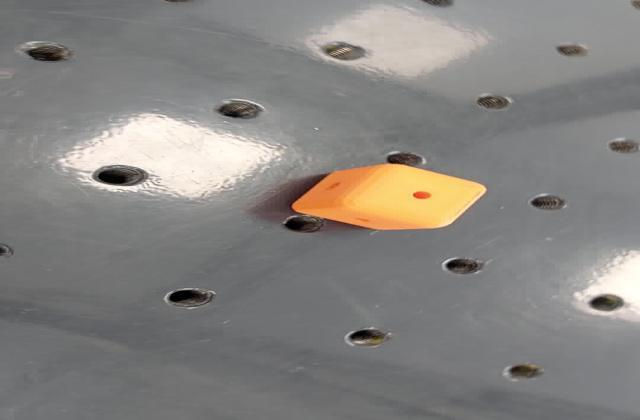cube: (290, 162, 495, 234)
